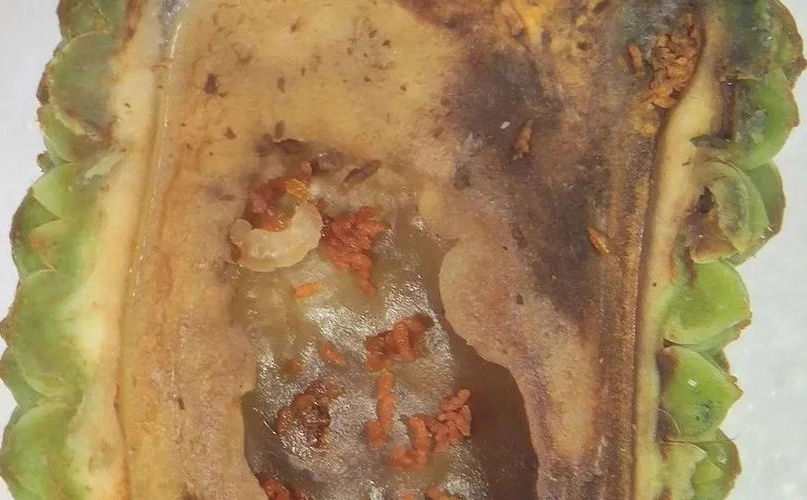Borer: (221, 177, 333, 279)
